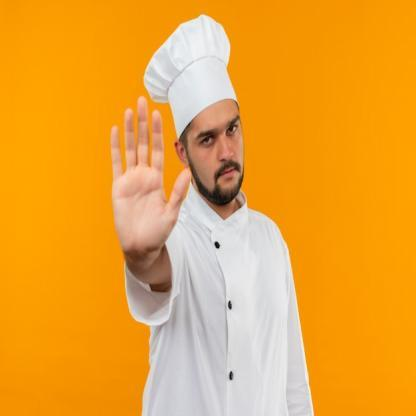stop: (109, 90, 192, 262)
